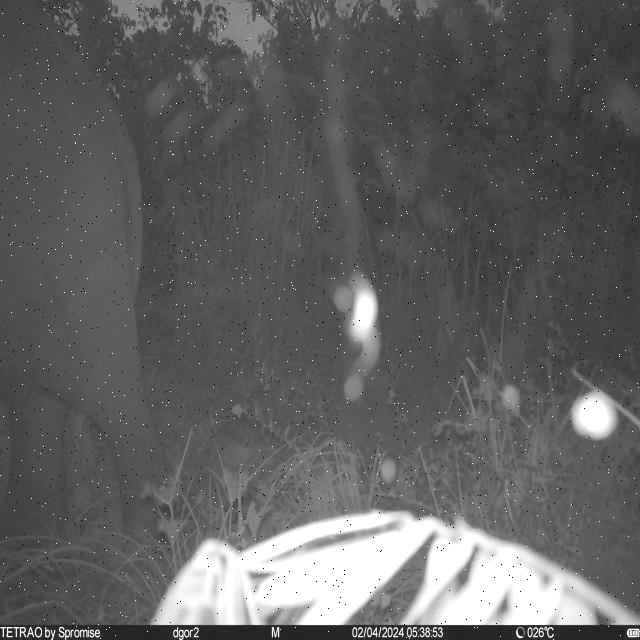elephant: (0, 0, 177, 550)
